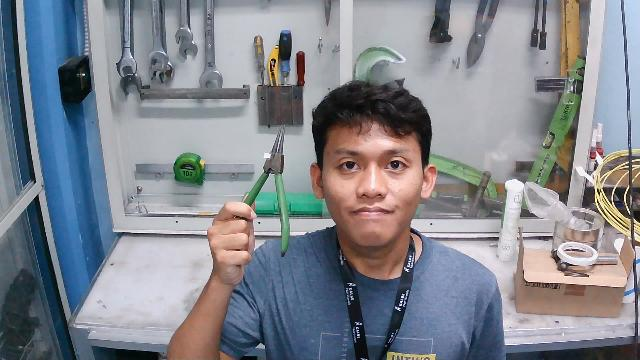tang_cucut_lancip_2: (225, 122, 300, 261)
